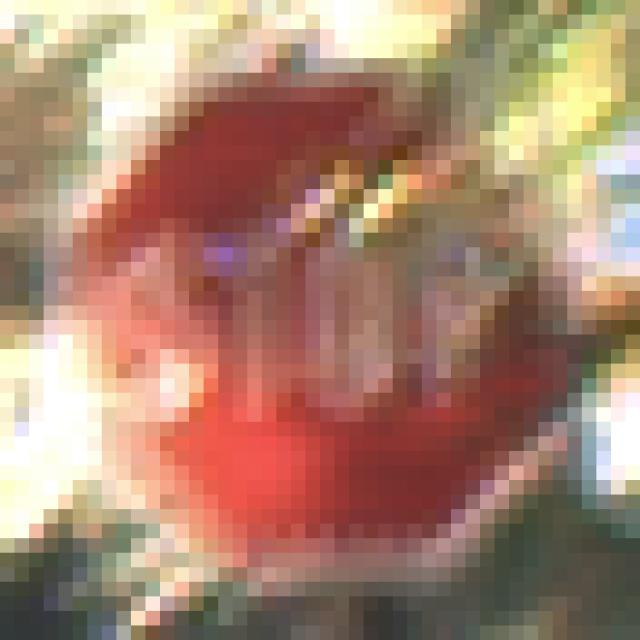STOP: (89, 74, 569, 568)
